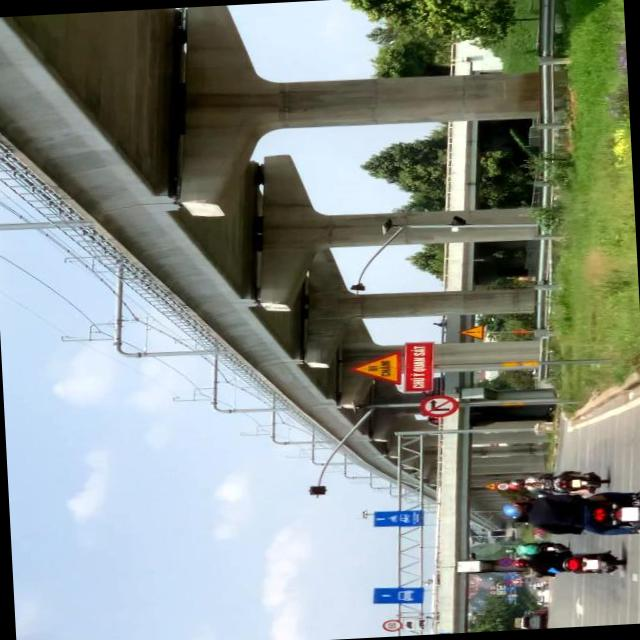P-123b: (416, 392, 459, 420)
W-245a: (347, 350, 402, 384)
